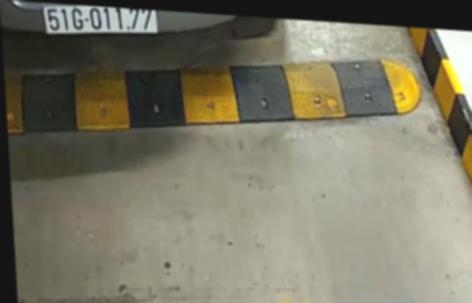License_Plate: (41, 4, 162, 46)
